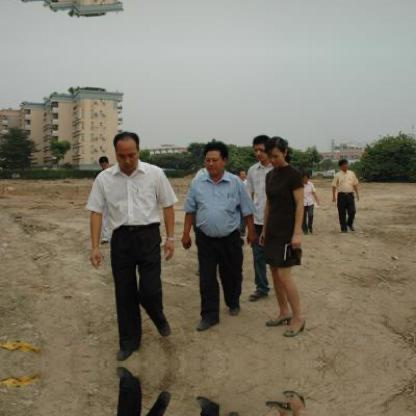No Safety Helmet: (262, 132, 302, 176), (109, 130, 146, 171), (198, 139, 233, 178), (250, 131, 273, 166)
